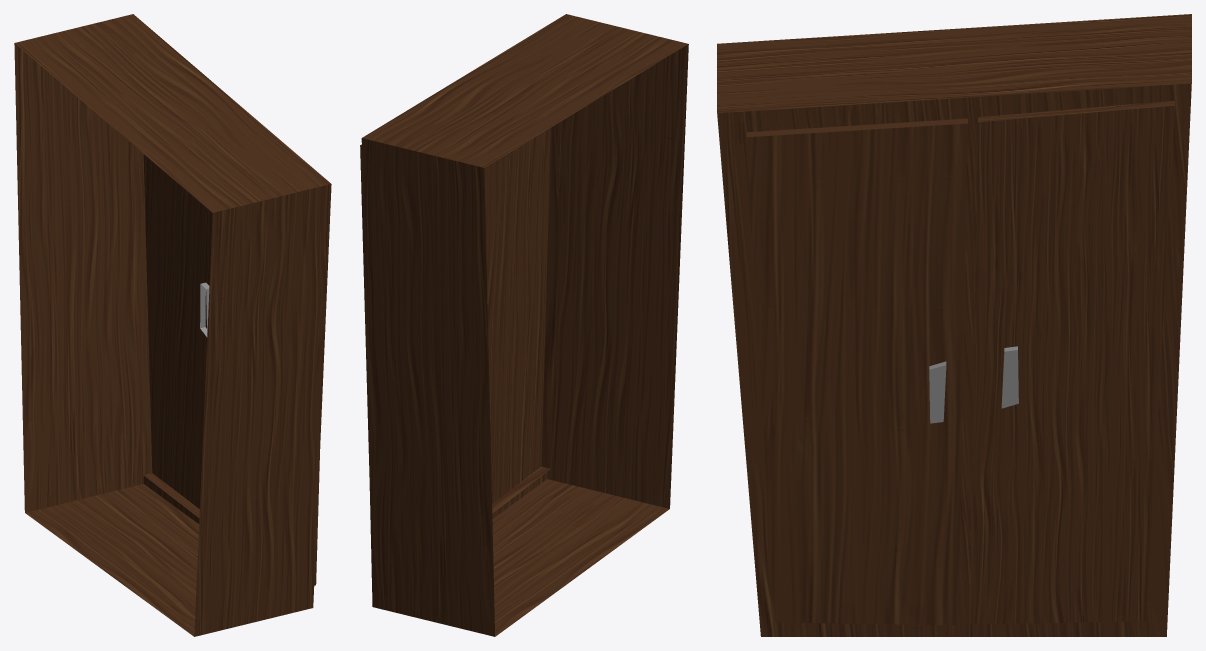
Rendered from Closet.fbx.
3 views of the same model, side by side, from view 1: azimuth 30°, elevation 25°; view 2: azimuth 150°, elevation 25°; view 3: azimuth 270°, elevation 25° (orthographic). The views are drawn at different scales.
Parts seen in each view (by area): view 1: Closet; view 2: Closet; view 3: Closet.
Part boxes in pixels (x1,y1,x2,y2): Closet: (14, 14, 331, 636); Closet: (360, 14, 688, 636); Closet: (717, 14, 1191, 636).
Size of the model in its own units: 7554 by 24943 by 19387.
